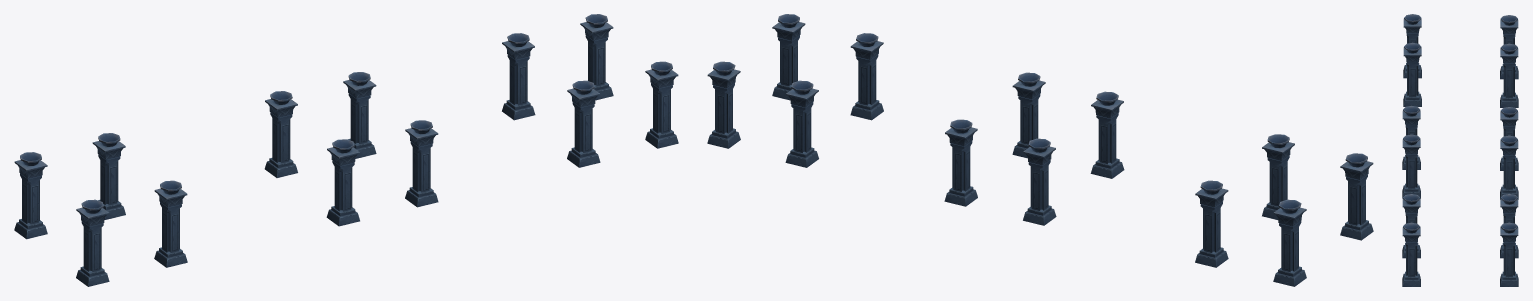
The model's file is wujian23.fbx.
The picture shows the model from 3 angles, left to right: view 1: azimuth 30°, elevation 25°; view 2: azimuth 150°, elevation 25°; view 3: azimuth 270°, elevation 25°; orthographic projection. The views are drawn at different scales.
Visible parts, largest first — view 1: wujian23; view 2: wujian23; view 3: wujian23.
Boxes of the visible parts, x1,y1,x2,y2 form: wujian23: (14, 14, 678, 286); wujian23: (707, 14, 1373, 286); wujian23: (1402, 14, 1518, 286).
Bounding box in the file's own units: 4250 × 519 × 965.
1 material, 1 textured.
